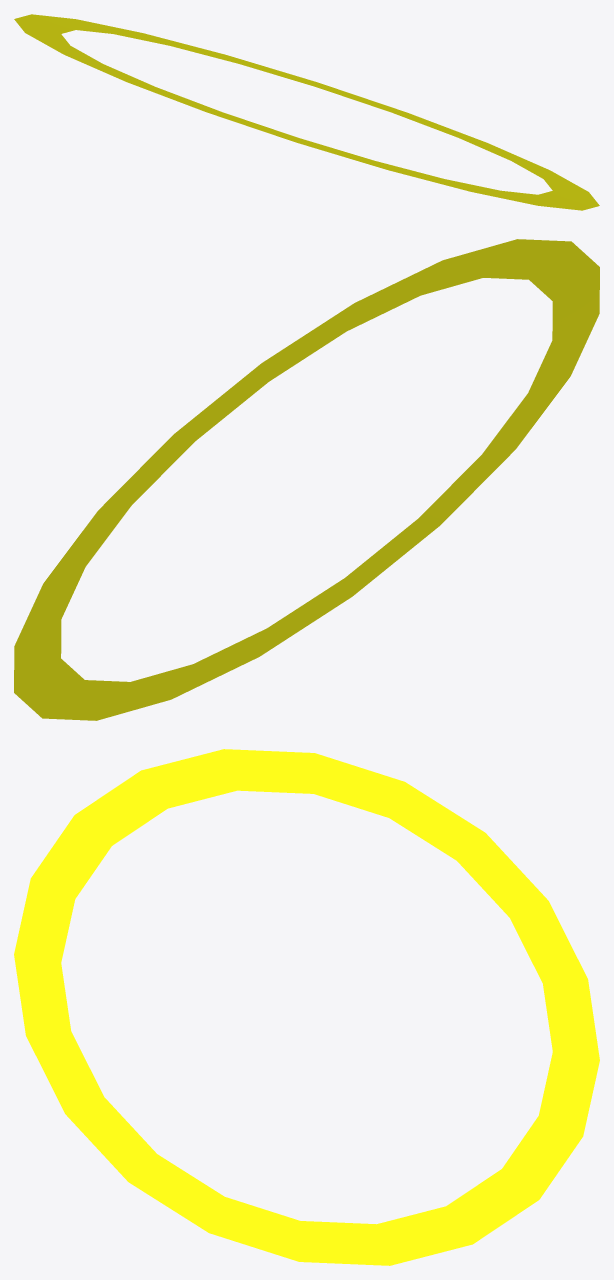
File: RadialPulse.fbx
3 views of the same model, one above another, from view 1: azimuth 30°, elevation 25°; view 2: azimuth 150°, elevation 25°; view 3: azimuth 270°, elevation 25° (orthographic). The views are drawn at different scales.
Parts seen in each view (by area): view 1: CircleGeo; view 2: CircleGeo; view 3: CircleGeo.
Part boxes in pixels (x1,y1,x2,y2): CircleGeo: (14, 14, 599, 210); CircleGeo: (14, 239, 599, 720); CircleGeo: (14, 749, 599, 1265).
Size of the model in its own units: 15.02 by 10.13 by 16.94.
1 material, 1 textured.
